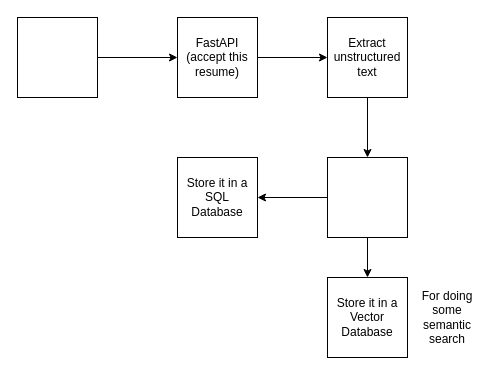
Some shapes in this 495 by 375 pixel diagram are drawn without their labels. The centre of each missing label's shape, as x and y in pixels:
Ask LLM to return structured text (Prompt Engineering): (x=367, y=197)
Resume: (x=57, y=57)
